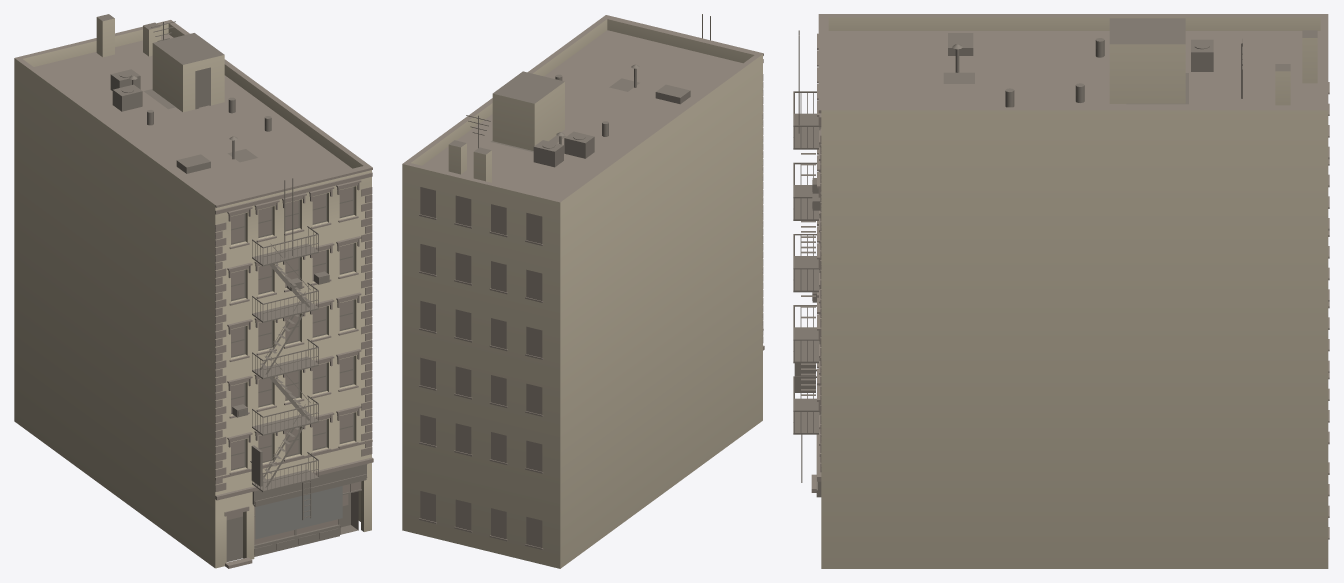
File: tenement_e.glb
3 renders of one model, left to right at view 1: azimuth 30°, elevation 25°; view 2: azimuth 150°, elevation 25°; view 3: azimuth 270°, elevation 25°, orthographic. The views are drawn at different scales.
Visible parts, largest first — view 1: tenement_e; view 2: tenement_e; view 3: tenement_e.
Part boxes in pixels (x1,y1,x2,y2): tenement_e: [14, 14, 373, 568]; tenement_e: [402, 14, 764, 568]; tenement_e: [793, 14, 1329, 568].
Bounding box in the file's own units: 9 × 21.95 × 21.15.
